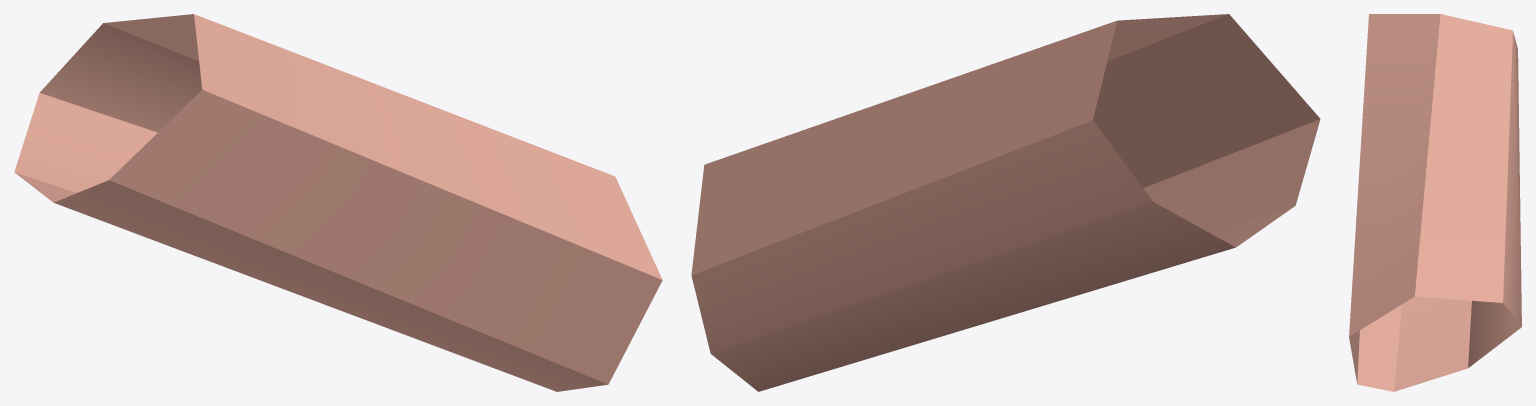
Rendered from cutrmumlarm.fbx.
The picture shows the model from 3 angles, left to right: view 1: azimuth 30°, elevation 25°; view 2: azimuth 150°, elevation 25°; view 3: azimuth 270°, elevation 25°; orthographic projection. The views are drawn at different scales.
Parts seen in each view (by area): view 1: mum.020; view 2: mum.020; view 3: mum.020.
Boxes of the visible parts, x1,y1,x2,y2 form: mum.020: [14, 14, 662, 391]; mum.020: [691, 14, 1320, 391]; mum.020: [1349, 14, 1521, 391].
Size of the model in its own units: 23.2 by 17.26 by 9.8.
